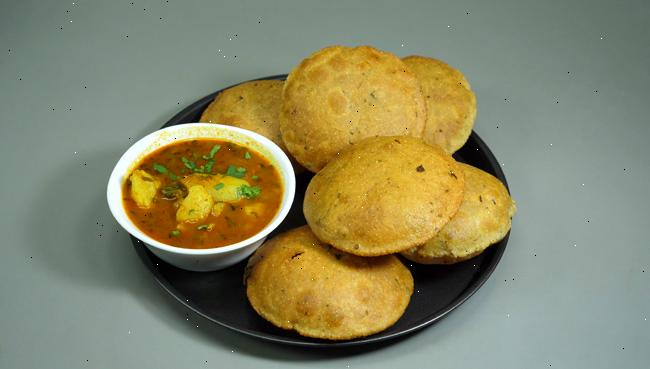puri: (291, 43, 521, 342)
